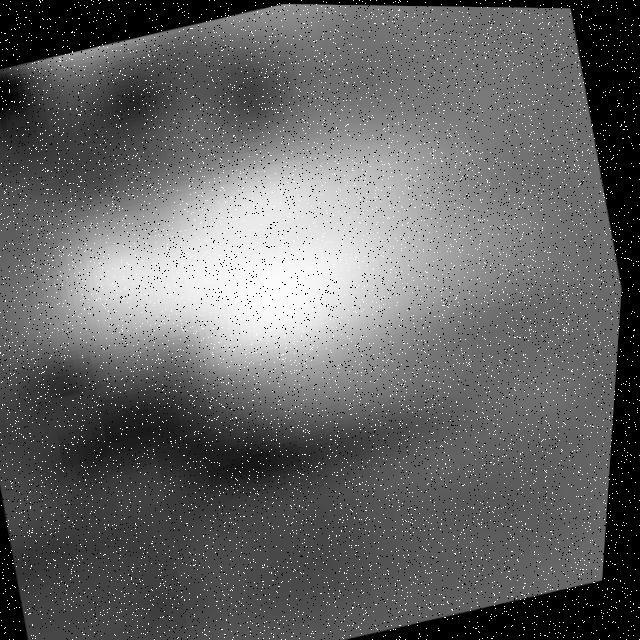person: (5, 82, 581, 463)
